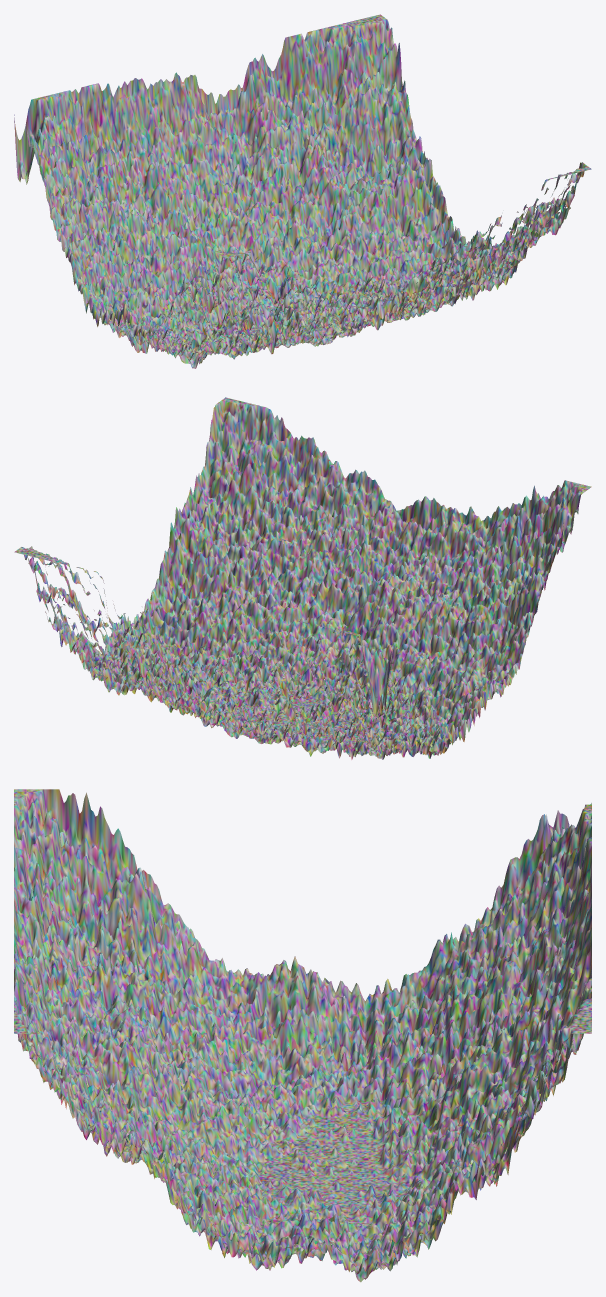
The model's file is dsm_f554c3ed66_mesh.glb.
The picture shows the model from 3 angles, top to bottom: view 1: azimuth 30°, elevation 25°; view 2: azimuth 150°, elevation 25°; view 3: azimuth 270°, elevation 25°; orthographic projection. The views are drawn at different scales.
Visible parts, largest first — view 1: geometry_0; view 2: geometry_0; view 3: geometry_0.
Part boxes in pixels (x1,y1,x2,y2): geometry_0: (14,14,591,368); geometry_0: (14,397,591,759); geometry_0: (14,789,591,1282).
Size of the model in its own units: 2 by 1 by 2.
